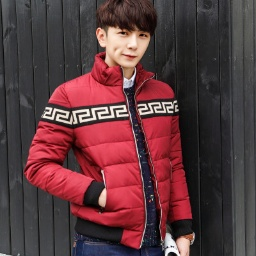face: (95, 1, 158, 70)
